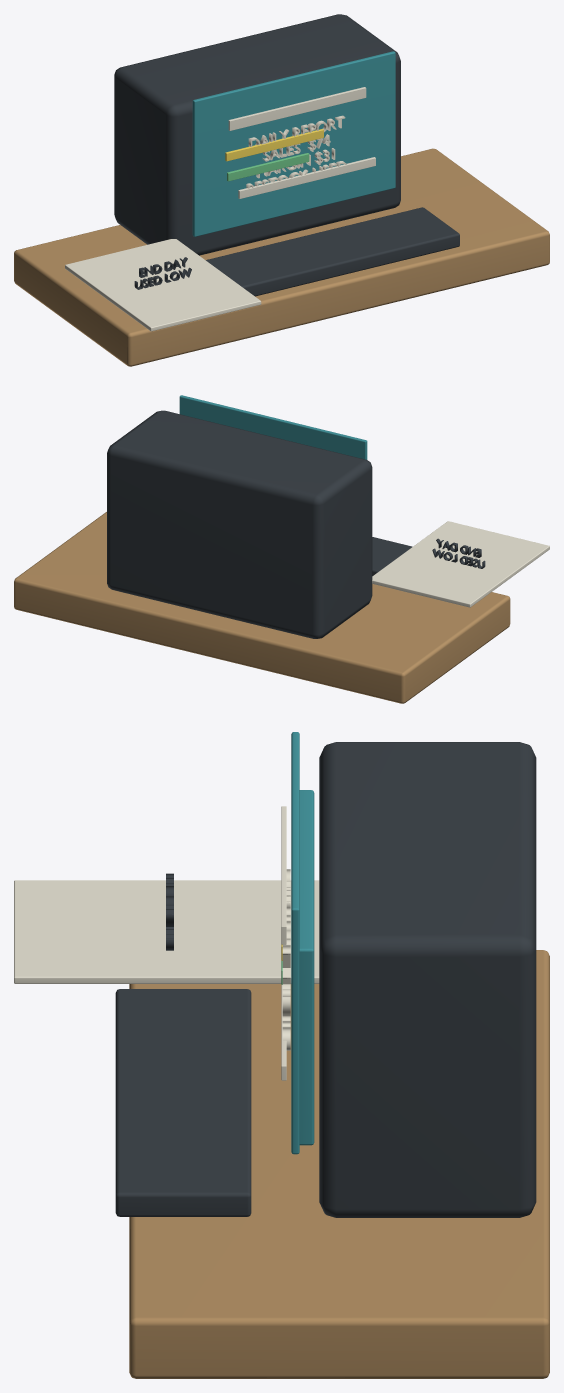
File: daily_report_computer.glb
The picture shows the model from 3 angles, top to bottom: view 1: azimuth 30°, elevation 25°; view 2: azimuth 150°, elevation 25°; view 3: azimuth 270°, elevation 25°; orthographic projection. The views are drawn at different scales.
Parts seen in each view (by area): view 1: backroom_computer_desk, daily_report_crt_body, daily_report_screen_panel, keyboard_block, daily_report_paper_printout, daily_report_screen_text, daily_report_title_bar, daily_report_restock_bar, daily_report_sales_bar, daily_report_printout_text, daily_report_margin_bar; view 2: daily_report_crt_body, backroom_computer_desk, daily_report_paper_printout, daily_report_screen_panel, keyboard_block, daily_report_printout_text; view 3: daily_report_crt_body, backroom_computer_desk, keyboard_block, daily_report_paper_printout, daily_report_crt_screen, daily_report_screen_panel, daily_report_screen_text, daily_report_title_bar.
Boxes of the visible parts, x1,y1,x2,y2 form: backroom_computer_desk: (14,148,549,366); daily_report_crt_body: (114,14,400,255); daily_report_screen_panel: (192,51,395,236); keyboard_block: (206,207,459,296); daily_report_paper_printout: (65,239,261,331); daily_report_screen_text: (246,115,346,188); daily_report_title_bar: (228,87,366,130); daily_report_restock_bar: (238,157,375,198); daily_report_sales_bar: (225,129,323,161); daily_report_printout_text: (134,257,191,289); daily_report_margin_bar: (227,153,309,181); daily_report_crt_body: (107,410,372,638); backroom_computer_desk: (14,512,510,703); daily_report_paper_printout: (372,521,549,607); daily_report_screen_panel: (179,395,367,459); keyboard_block: (372,537,412,575); daily_report_printout_text: (432,538,485,568); daily_report_crt_body: (319,742,536,1217); backroom_computer_desk: (129,950,549,1378); keyboard_block: (115,989,251,1216); daily_report_paper_printout: (14,880,319,983); daily_report_crt_screen: (299,790,314,1145); daily_report_screen_panel: (291,732,299,1154); daily_report_screen_text: (282,869,290,1050); daily_report_title_bar: (281,806,286,944).
Size of the model in its own units: 1.33 by 0.61 by 0.79.
